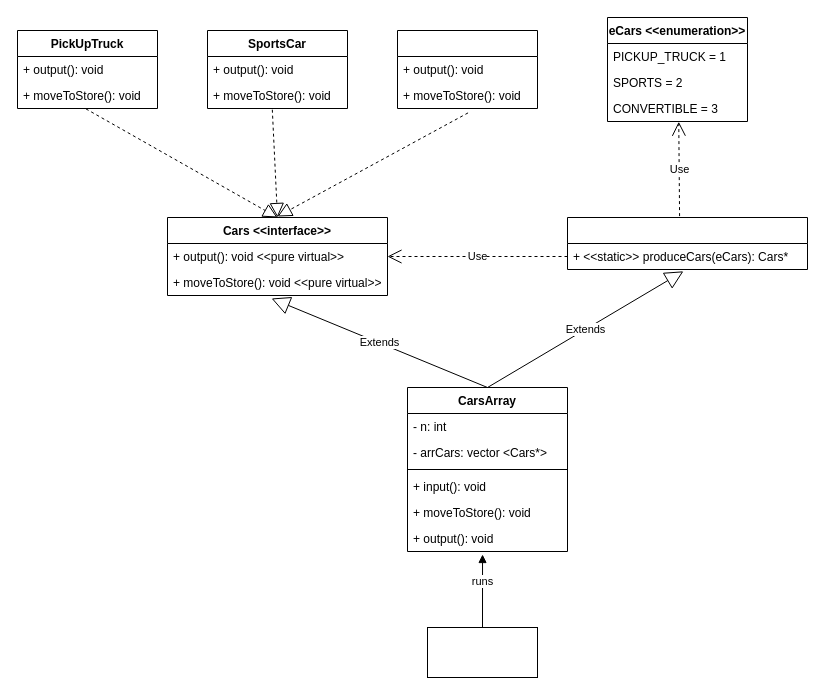
Image size: 825x695. Some labels were removed from this diagram. Each missing label, with the box of its shape:
CarsFactory: (566, 216, 808, 270)
Client: (426, 626, 538, 678)
ConvertibleCar: (396, 30, 538, 108)
